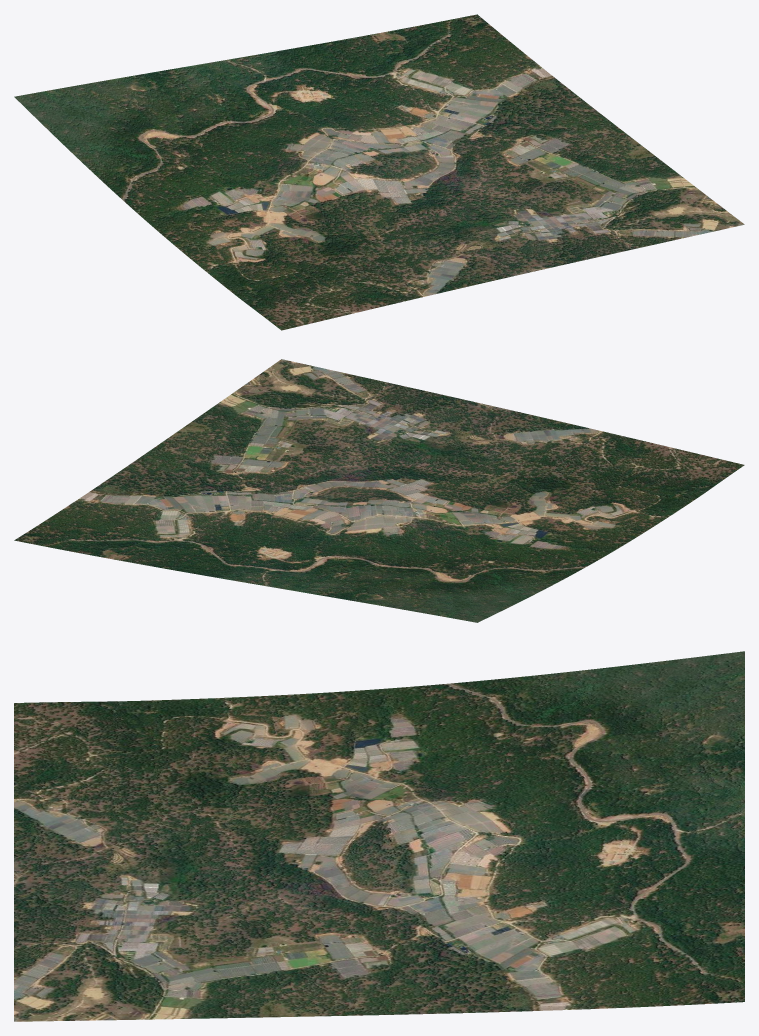
Rendered from terrain_real_T_E01_N04.glb.
3 views of the same model, one above another, from view 1: azimuth 30°, elevation 25°; view 2: azimuth 150°, elevation 25°; view 3: azimuth 270°, elevation 25° (orthographic). The views are drawn at different scales.
Parts seen in each view (by area): view 1: Terrain_Real_DEM_T_E01_N04; view 2: Terrain_Real_DEM_T_E01_N04; view 3: Terrain_Real_DEM_T_E01_N04.
Part boxes in pixels (x1,y1,x2,y2): Terrain_Real_DEM_T_E01_N04: [14, 14, 744, 330]; Terrain_Real_DEM_T_E01_N04: [14, 359, 744, 622]; Terrain_Real_DEM_T_E01_N04: [14, 651, 744, 1021].
Bounding box in the file's own units: 2000 × 186 × 2000.
1 material, 1 textured.
